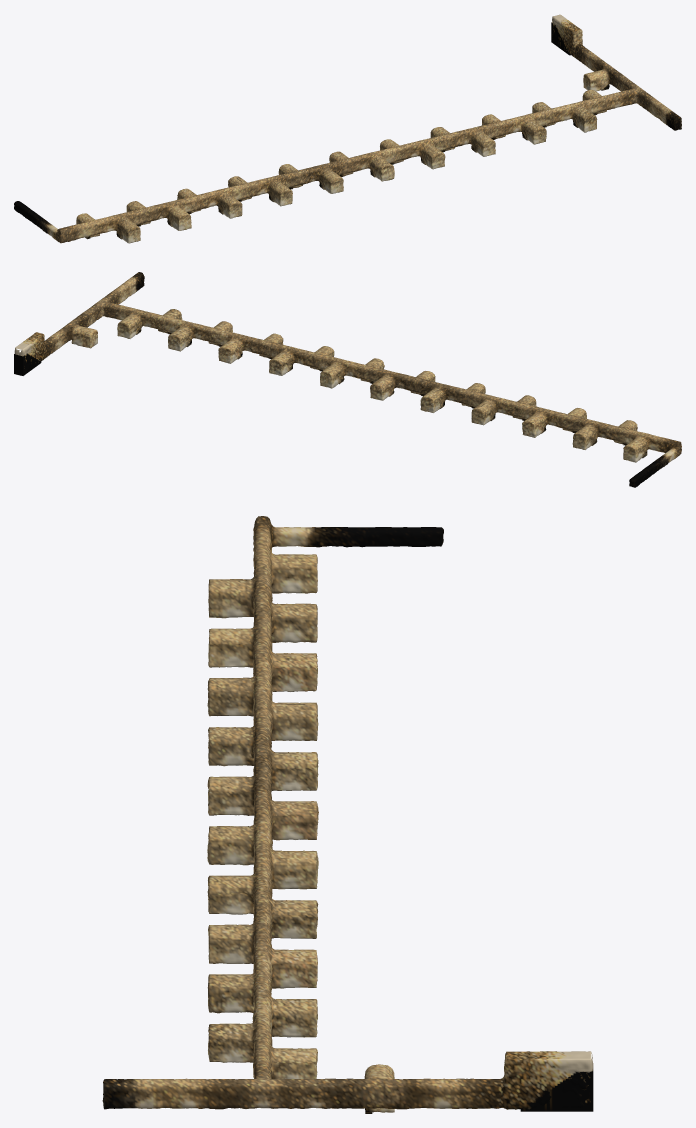
The model's file is serapeum.glb.
3 views of the same model, one above another, from view 1: azimuth 30°, elevation 25°; view 2: azimuth 150°, elevation 25°; view 3: azimuth 270°, elevation 25° (orthographic). The views are drawn at different scales.
Parts seen in each view (by area): view 1: rock; view 2: rock, steps; view 3: rock, steps.
Part boxes in pixels (left/top/right/bottom): rock: left=14, top=14, right=681, bottom=243; rock: left=14, top=272, right=681, bottom=487; steps: left=14, top=331, right=647, bottom=458; rock: left=102, top=516, right=592, bottom=1112; steps: left=365, top=1063, right=593, bottom=1113.
Size of the model in its own units: 254 by 13.37 by 92.36.
